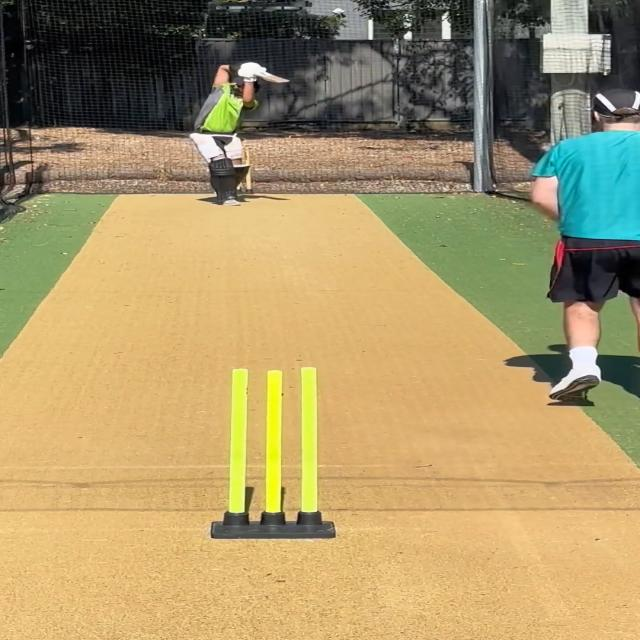stump: (209, 366, 337, 540)
